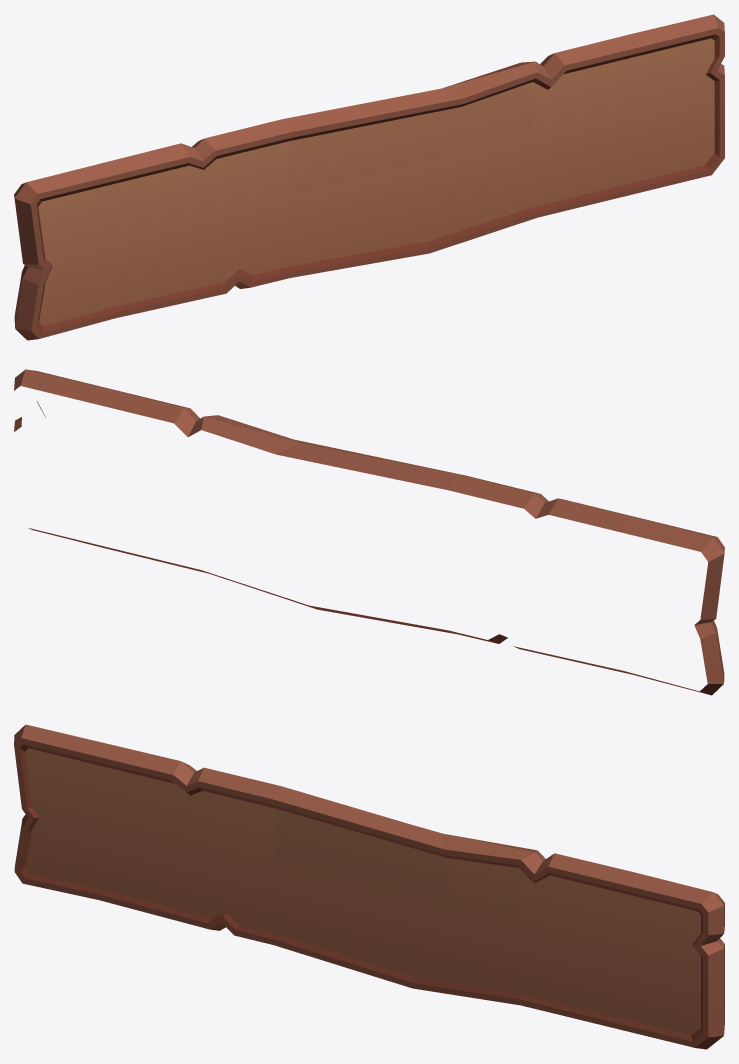
The model's file is sign.glb.
3 renders of one model, top to bottom at view 1: azimuth 30°, elevation 25°; view 2: azimuth 150°, elevation 25°; view 3: azimuth 330°, elevation 25°, orthographic.
Visible parts, largest first — view 1: Cube; view 2: Cube; view 3: Cube.
Boxes of the visible parts, box(x1,y1,x2,y2) form: Cube: box(14, 14, 724, 340); Cube: box(14, 369, 724, 695); Cube: box(14, 724, 724, 1049).
Size of the model in its own units: 2.04 by 0.4674 by 0.0891.
Materials: 1 (1 with a texture image).
